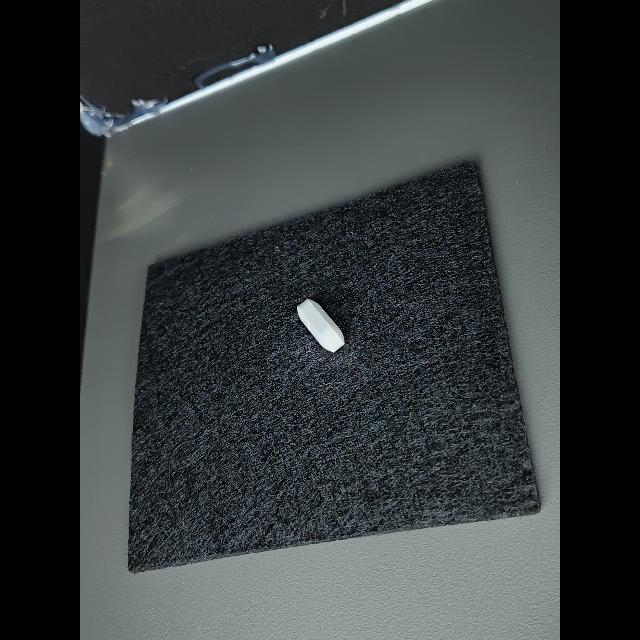Intact Pill: (297, 299, 344, 352)
